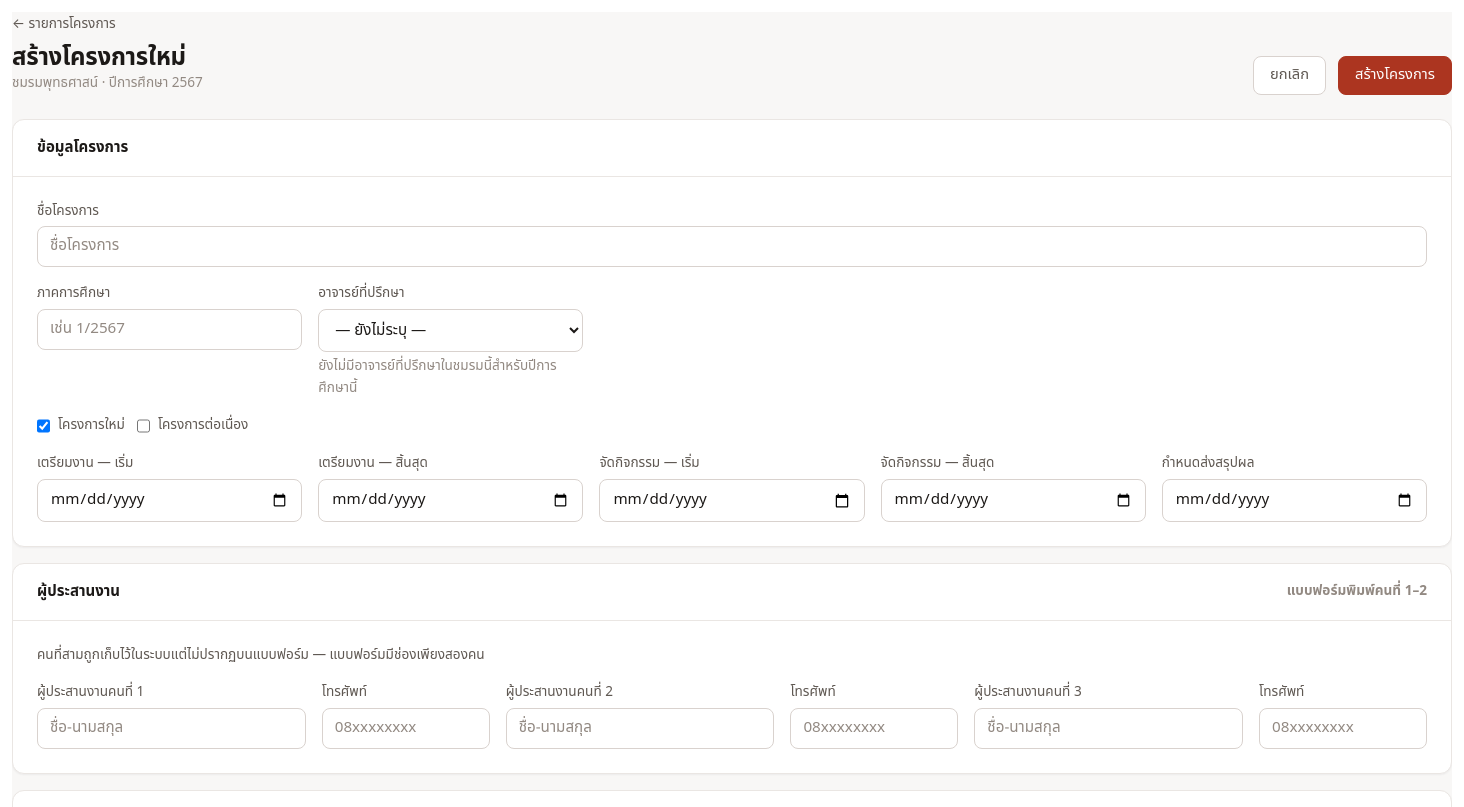
it: renames the button after the draft exists, since the press now updates it
This screenshot has width=1464, height=807.
Step 1. Type "โครงการทดสอบ" into the field with placeholder "ชื่อโครงการ" → point(732, 247), box [37, 226, 1427, 267]
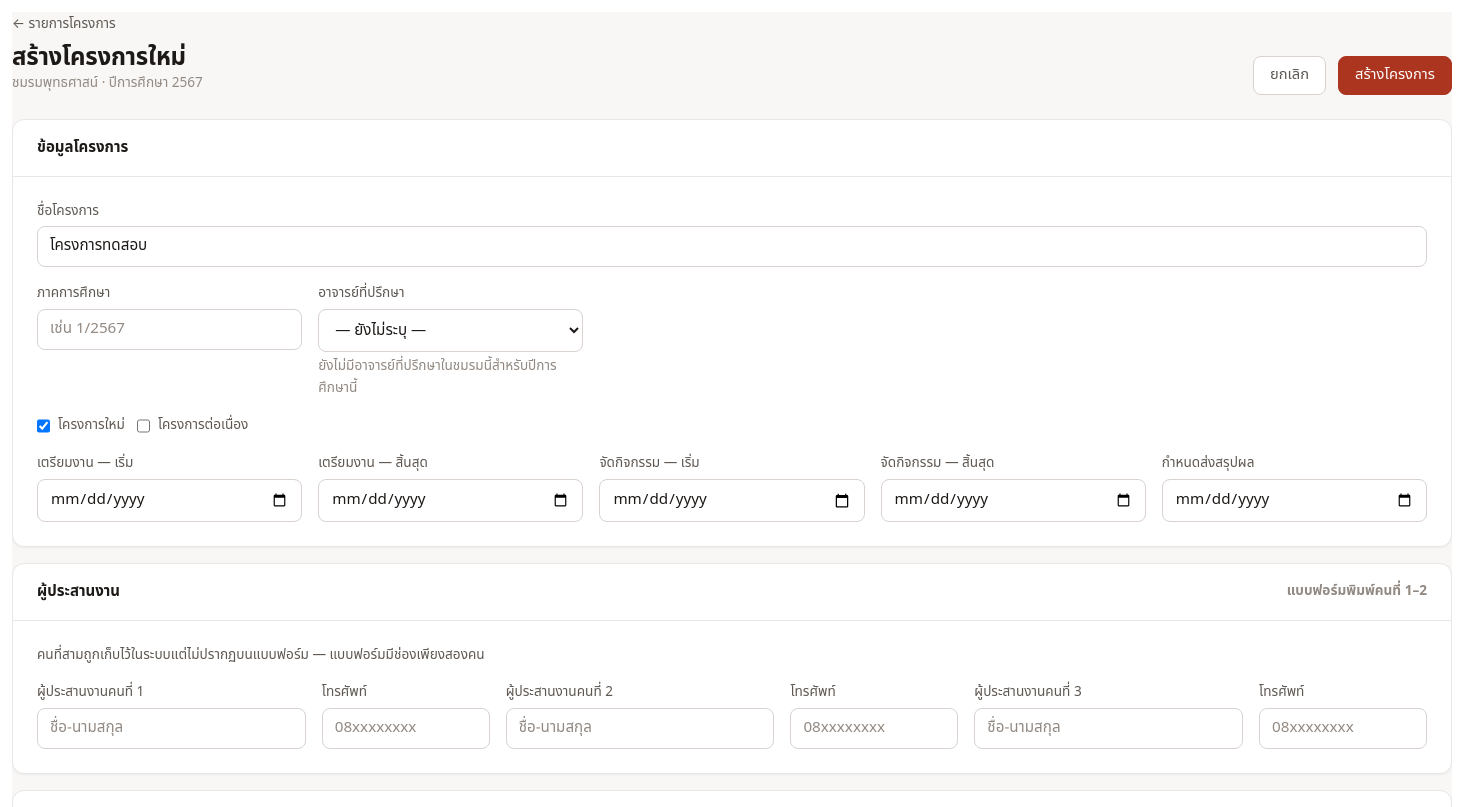
Step 2. Click the button "สร้างโครงการ" → point(1395, 75), box [1338, 56, 1452, 95]
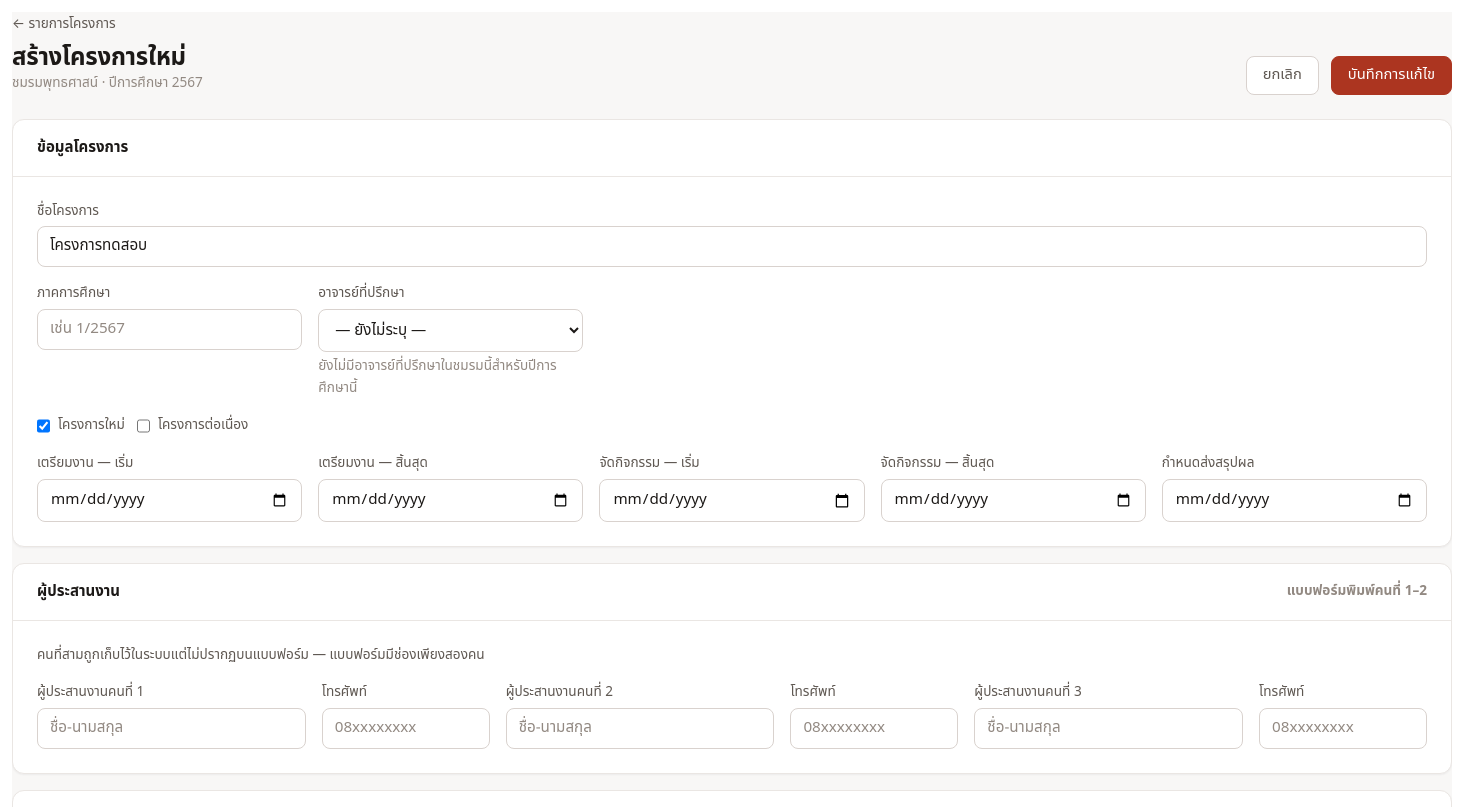
Result: the button "บันทึกการแก้ไข" is shown at [1331, 56, 1452, 95]
